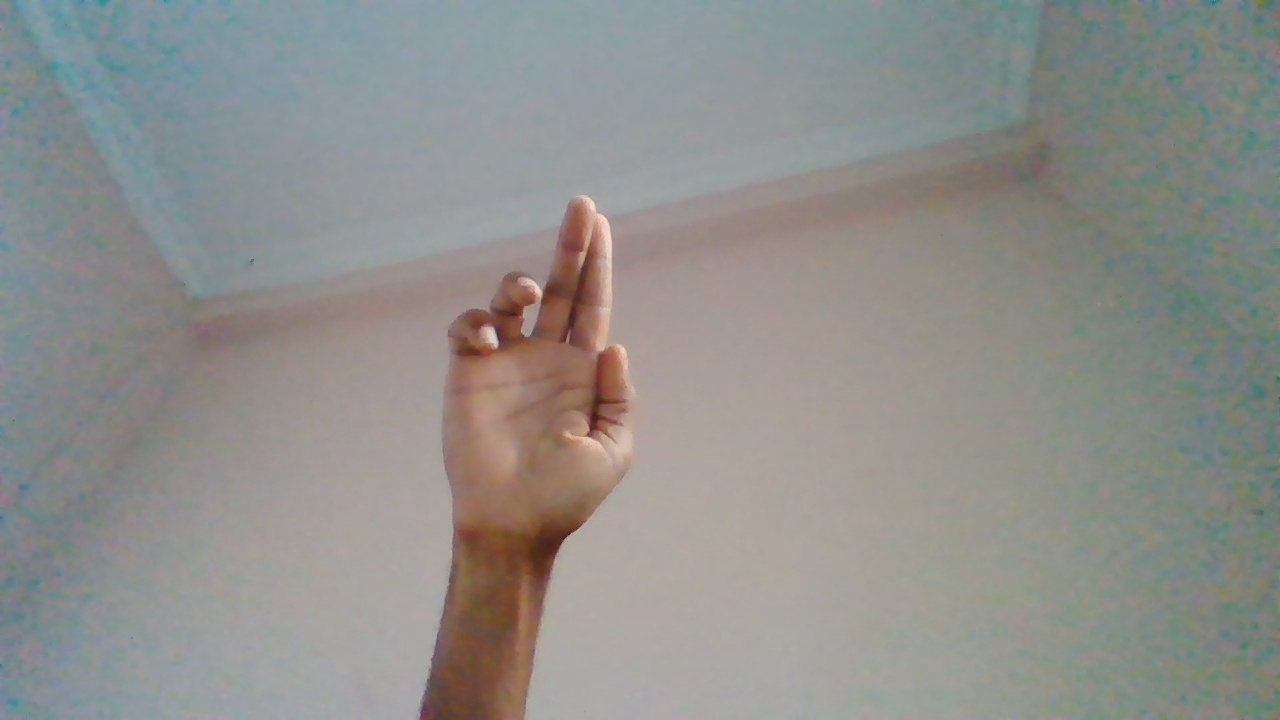gne: (440, 194, 629, 616)
